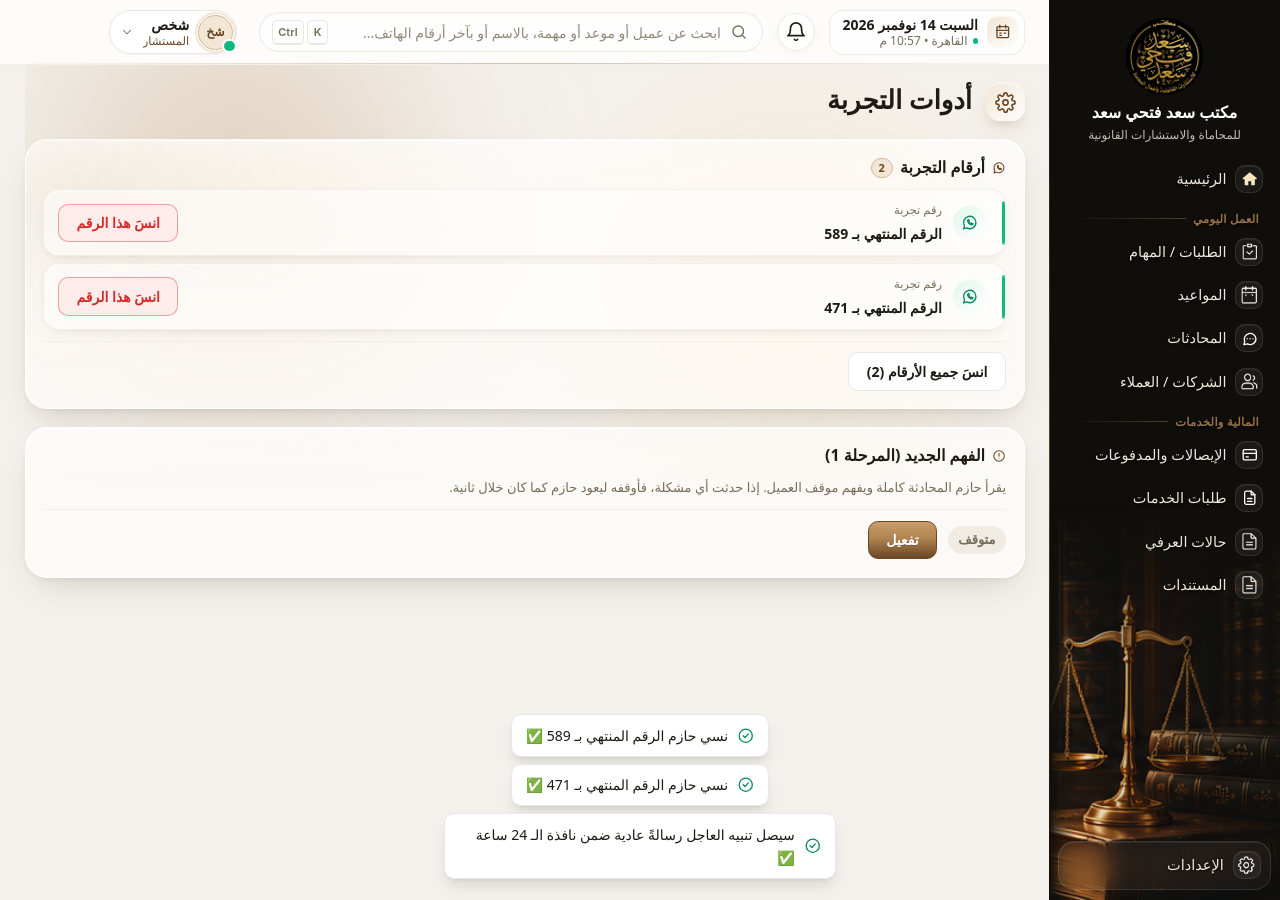
Test: أدوات التجربة › v1.52: the new understanding is switched on after asking, and off is Hazem as before
Expected: the heading "الفهم الجديد (المرحلة 1)" is shown, [825,444,1006,466]
Click the button "تفعيل".
click(902, 540)  # box [868,521,937,559]
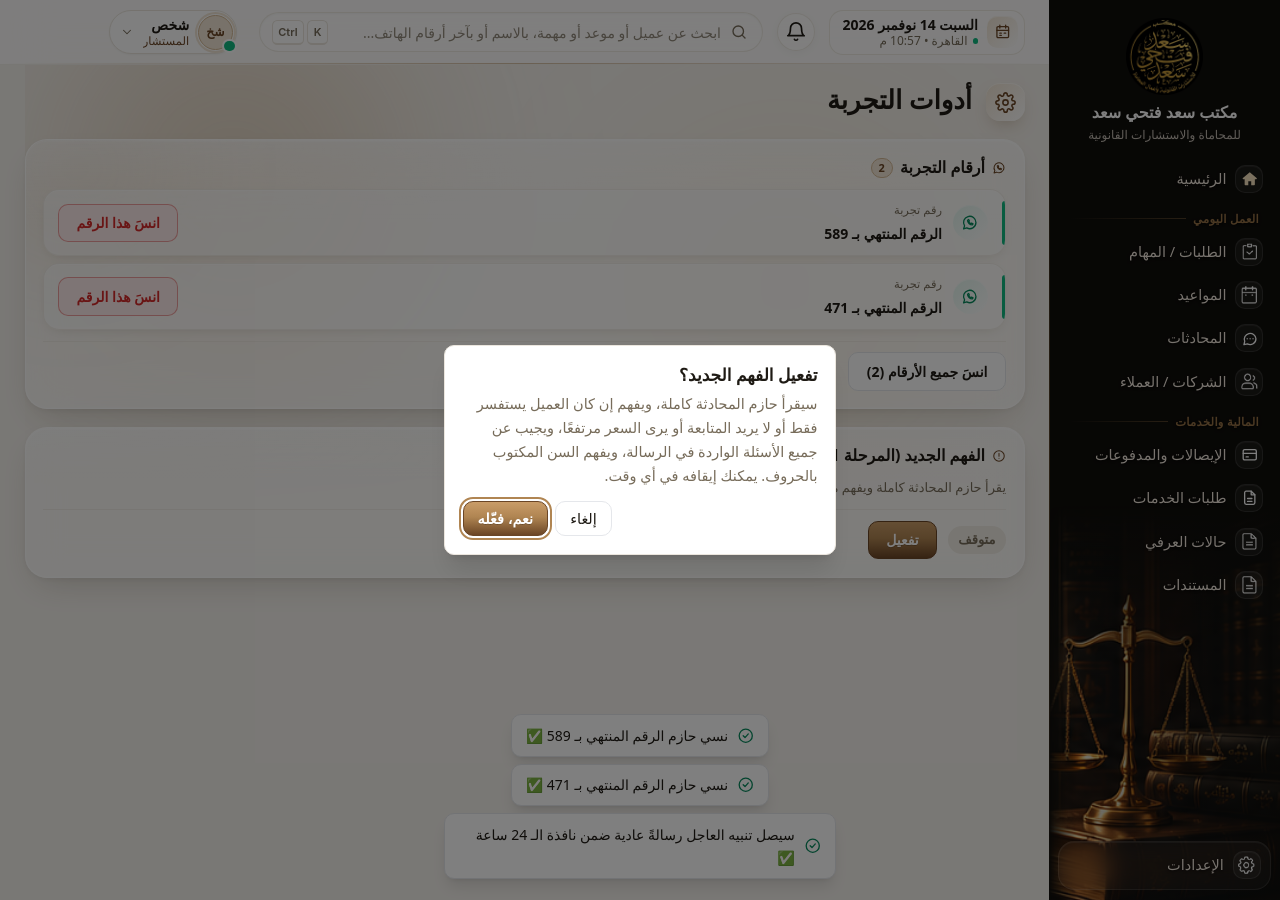
Click the button "نعم، فعّله".
click(505, 519)  # box [462,501,548,536]
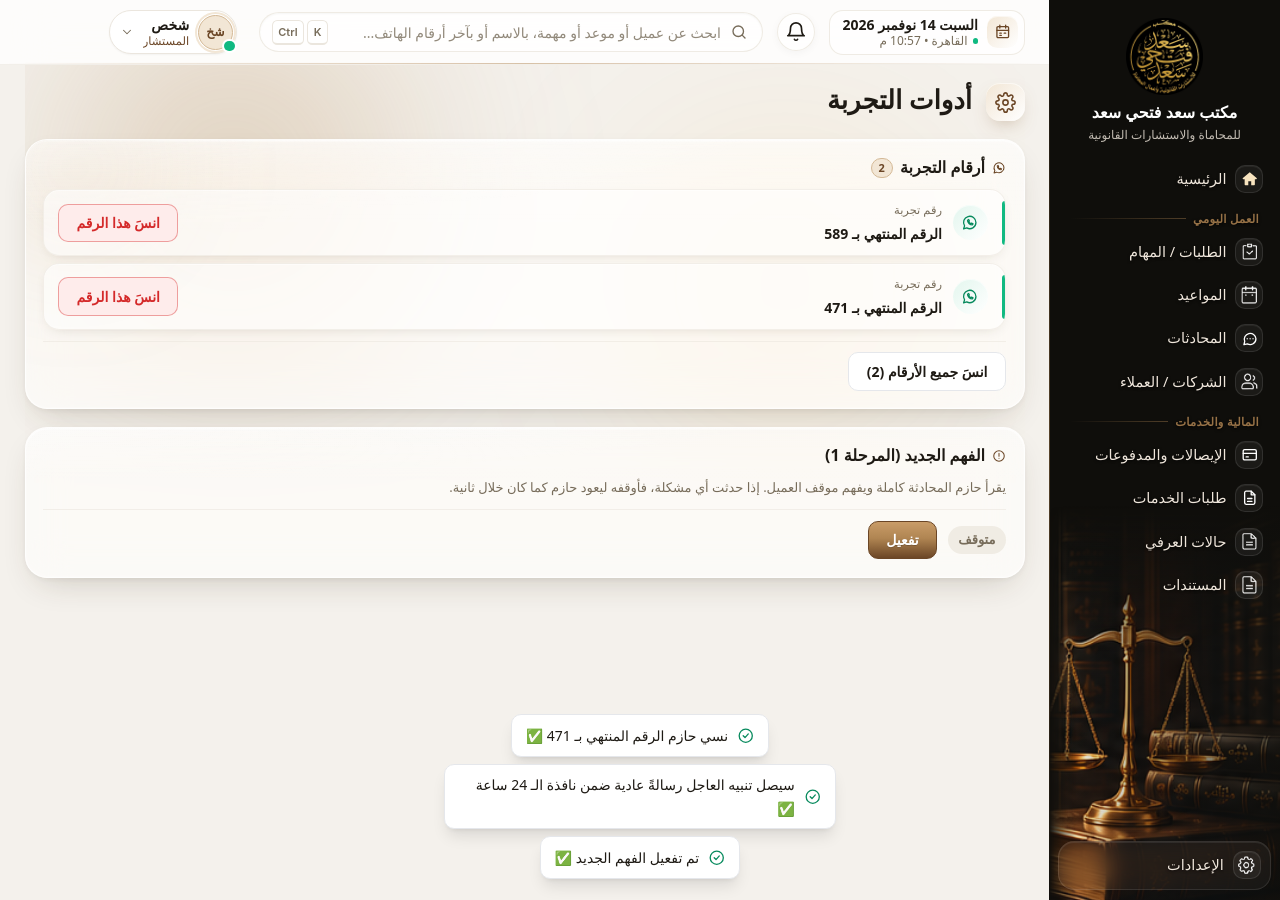
Expected: the text "تم تفعيل الفهم الجديد ✅" is shown, [540,836,740,879]
